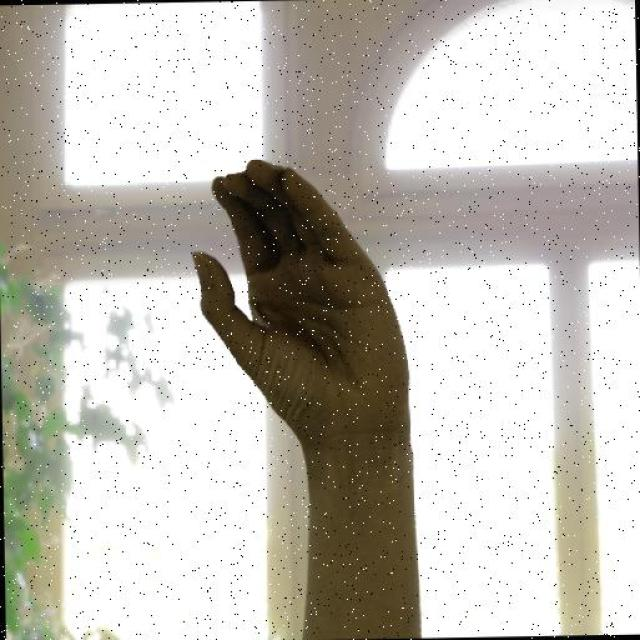C: (187, 152, 421, 476)
